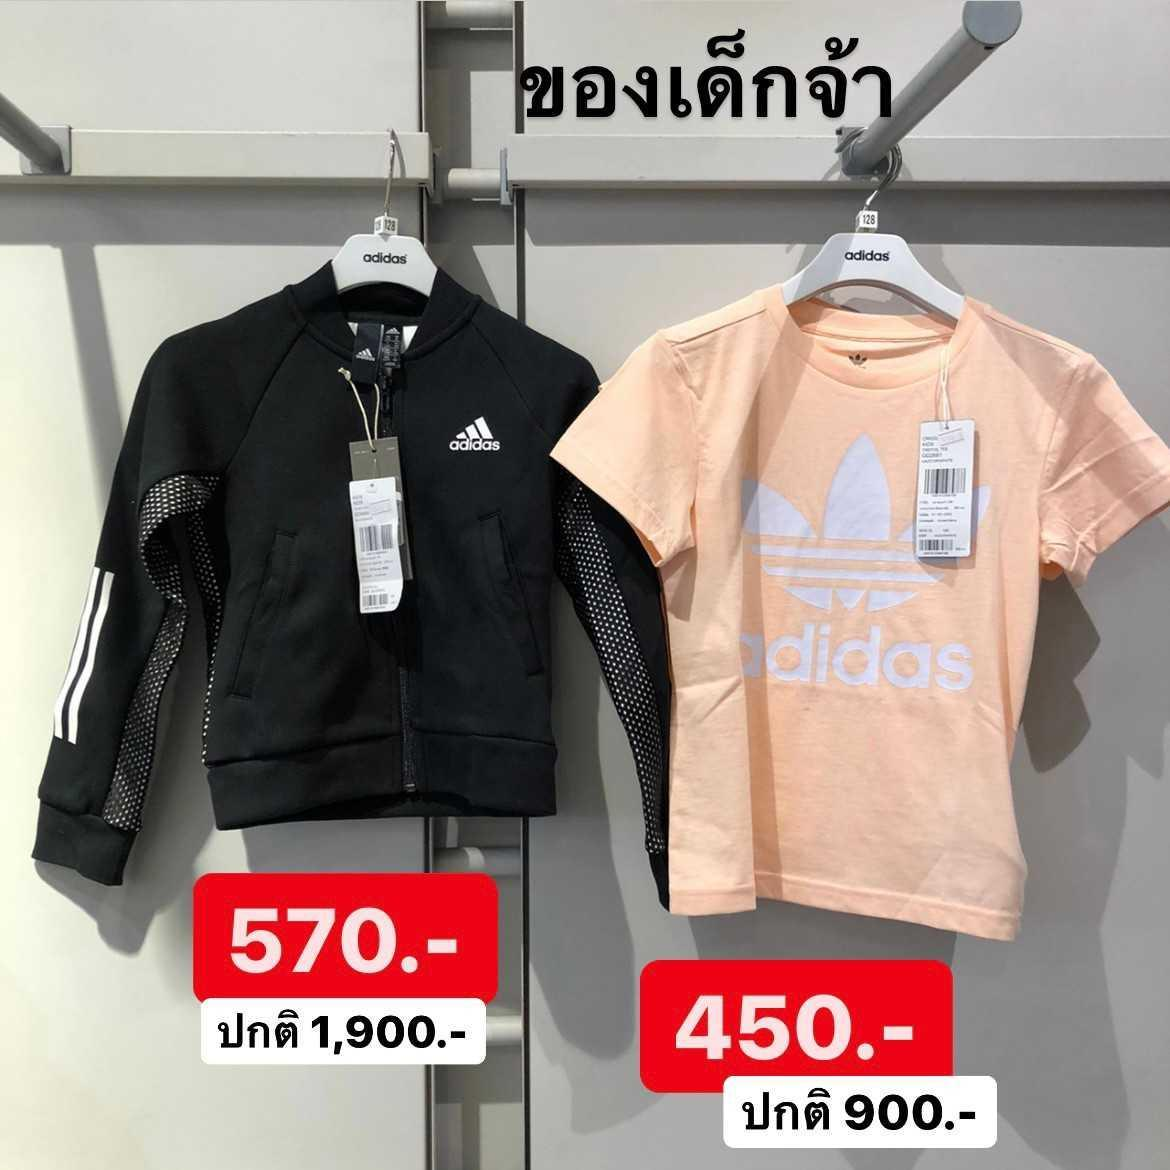Tshirt: (550, 265, 1170, 961)
jacket: (29, 281, 738, 945)
